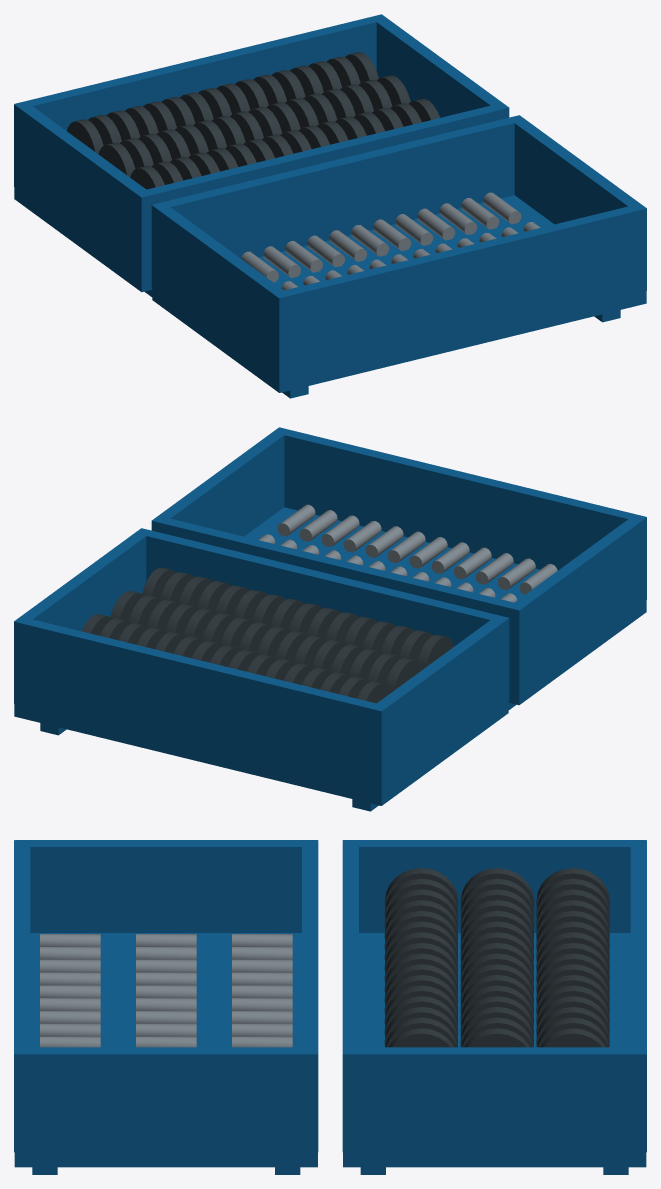
File: opening_parts_bin.dae
The picture shows the model from 3 angles, top to bottom: view 1: azimuth 30°, elevation 25°; view 2: azimuth 150°, elevation 25°; view 3: azimuth 270°, elevation 25°; orthographic projection. The views are drawn at different scales.
Visible parts, largest first — view 1: opening_parts_bin; view 2: opening_parts_bin; view 3: opening_parts_bin.
Part boxes in pixels (x1,y1,x2,y2): opening_parts_bin: (14,14,646,398); opening_parts_bin: (14,427,646,811); opening_parts_bin: (14,840,646,1174).
Bounding box in the file's own units: 2.01 × 2.51 × 0.575.
